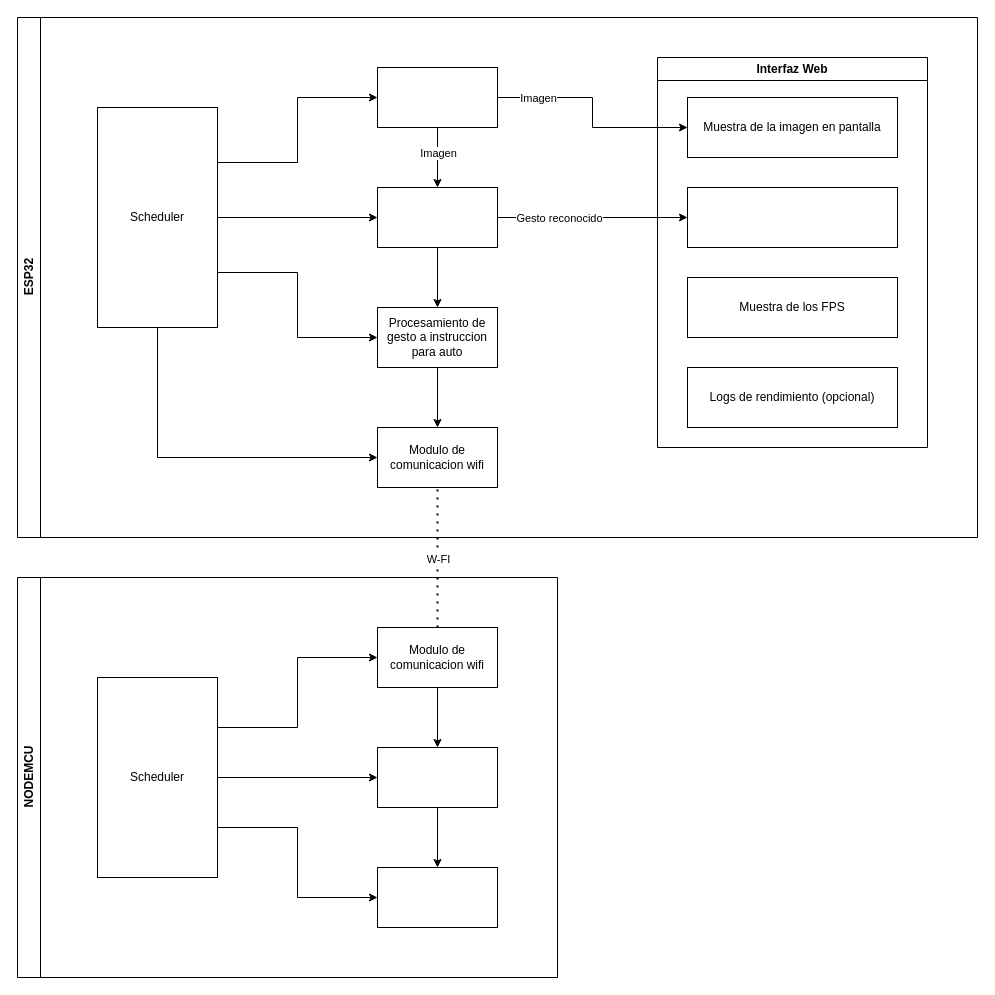
The diagram is 995 pixels wide and 995 high, and some of its shapes have lost their labels. Here are the shapes that lost their labels. From the top down, the centre of each, then its label:
[437,97]: OV7670 Funciones de uso de la cámara.
[437,217]: TensorFlow Lite
[792,217]: Indicar gesto reconocido
[437,777]: Procesamiento de instruccion a movimiento para los motores
[437,897]: Comunicacion con L298
